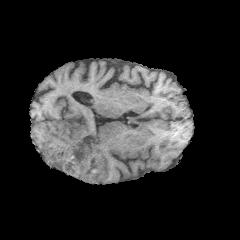glioma: (42, 129, 107, 181)
